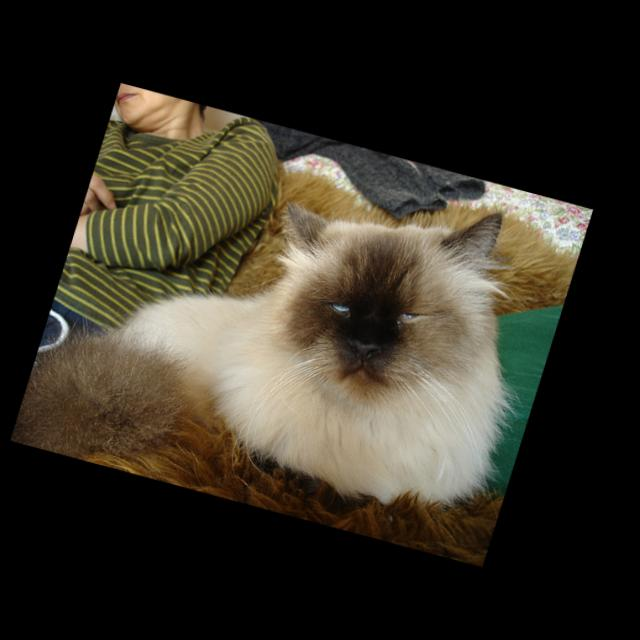animals: (251, 157, 505, 380)
